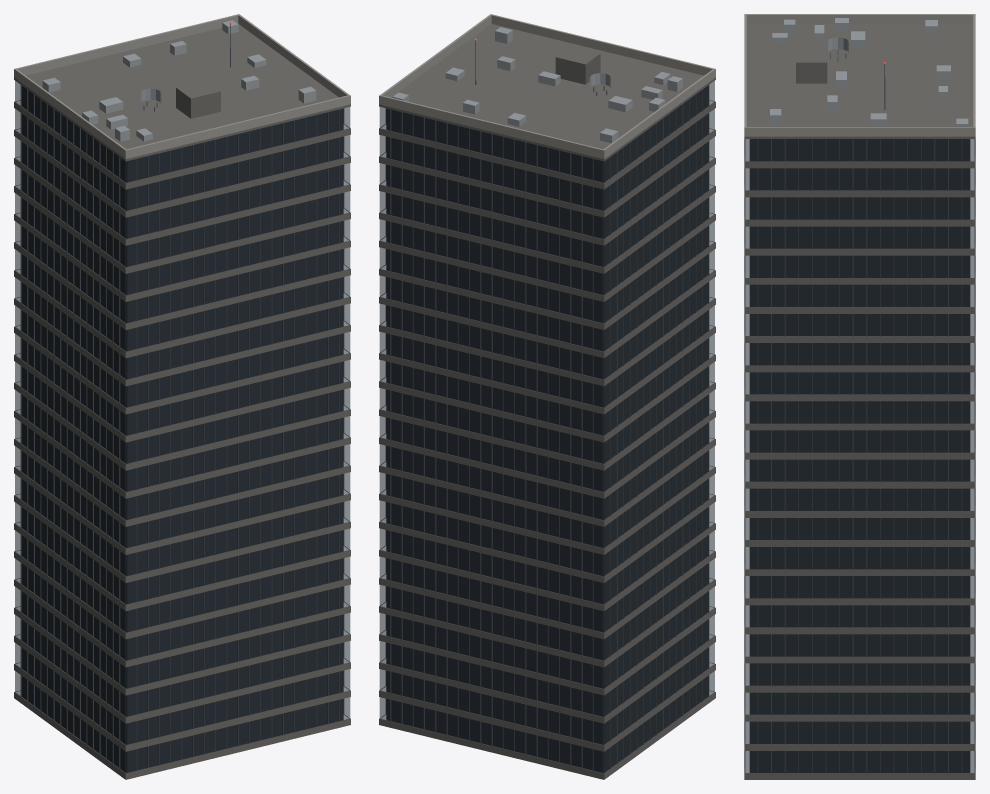
File: tower-2.glb
3 views of the same model, side by side, from view 1: azimuth 30°, elevation 25°; view 2: azimuth 150°, elevation 25°; view 3: azimuth 270°, elevation 25° (orthographic). The views are drawn at different scales.
Parts seen in each view (by area): view 1: tower-2; view 2: tower-2; view 3: tower-2.
Part boxes in pixels (<box>): tower-2: <box>14,14,350,779</box>; tower-2: <box>379,14,715,779</box>; tower-2: <box>744,14,975,779</box>.
Size of the model in its own units: 30.17 by 85.43 by 25.91.
